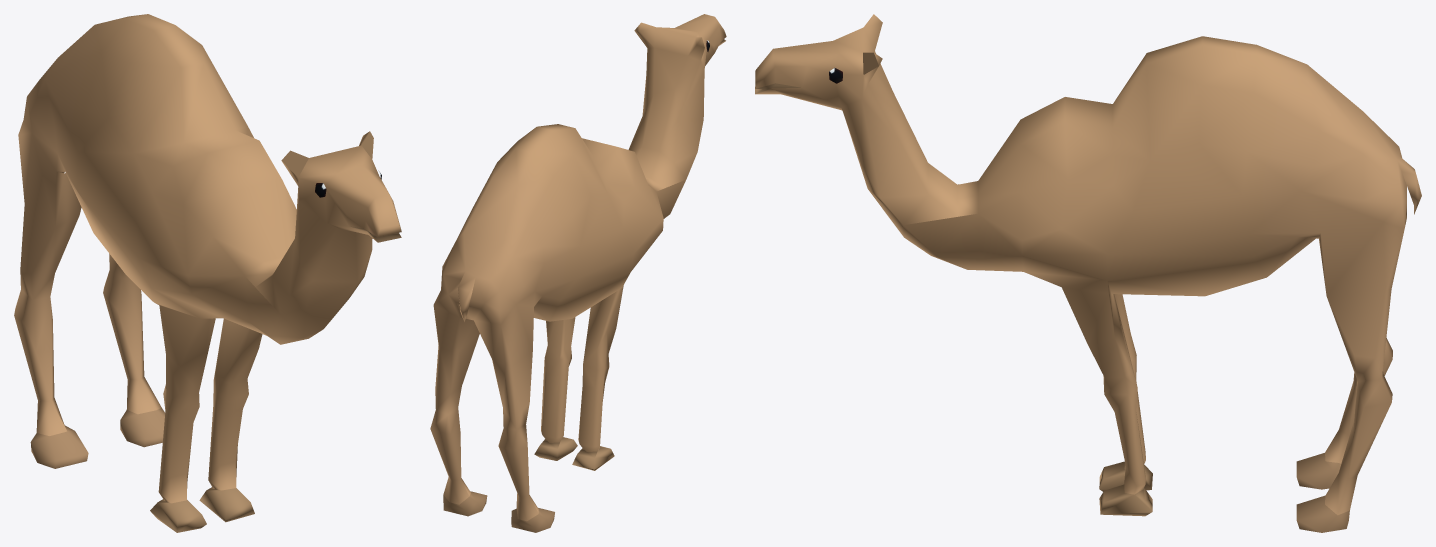
The model's file is Camel.glb.
The picture shows the model from 3 angles, left to right: view 1: azimuth 30°, elevation 25°; view 2: azimuth 150°, elevation 25°; view 3: azimuth 270°, elevation 25°; orthographic projection. The views are drawn at different scales.
Parts seen in each view (by area): view 1: Camel; view 2: Camel; view 3: Camel.
Part boxes in pixels (x1,y1,x2,y2): Camel: (14,14,401,532); Camel: (430,14,726,532); Camel: (755,14,1421,532).
Size of what is drawn, in the model's own units: 0.6219 by 1.99 by 2.58.
Materials: 1 (1 with a texture image).
